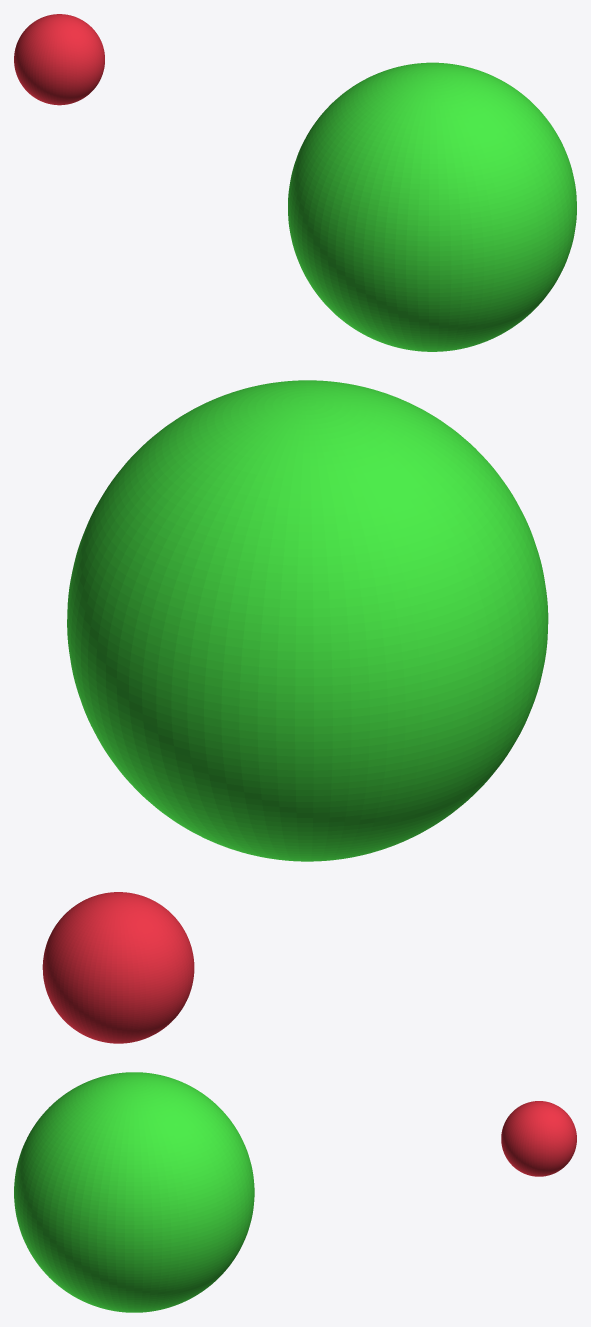
Rendered from Hydrogen.fbx.
The picture shows the model from 3 angles, top to bottom: view 1: azimuth 30°, elevation 25°; view 2: azimuth 150°, elevation 25°; view 3: azimuth 270°, elevation 25°; orthographic projection. The views are drawn at different scales.
Visible parts, largest first — view 1: Sphere, Sphere.001; view 2: Sphere, Sphere.001; view 3: Sphere, Sphere.001.
Boxes of the visible parts, box(x1,y1,x2,y2) form: Sphere: box(288, 62, 576, 351); Sphere.001: box(14, 14, 104, 105); Sphere: box(67, 380, 548, 861); Sphere.001: box(42, 892, 194, 1043); Sphere: box(14, 1072, 254, 1312); Sphere.001: box(501, 1101, 576, 1176).
Bounding box in the file's own units: 7.46 × 6.35 × 14.85.
